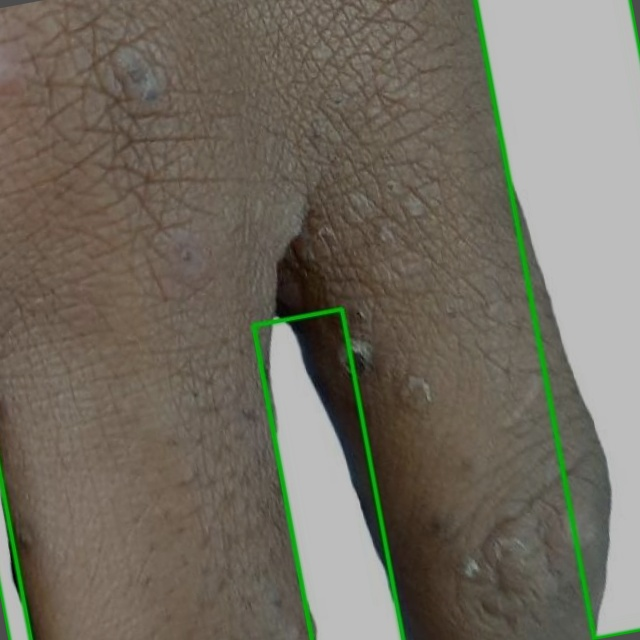Scabies: (253, 309, 403, 639)
